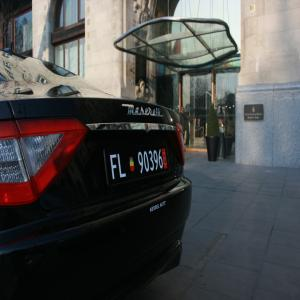Vehicle-registration-plate: (105, 142, 173, 191)
